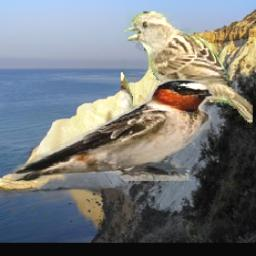Sparrow: (122, 12, 254, 129)
Swallow: (10, 77, 215, 181)
